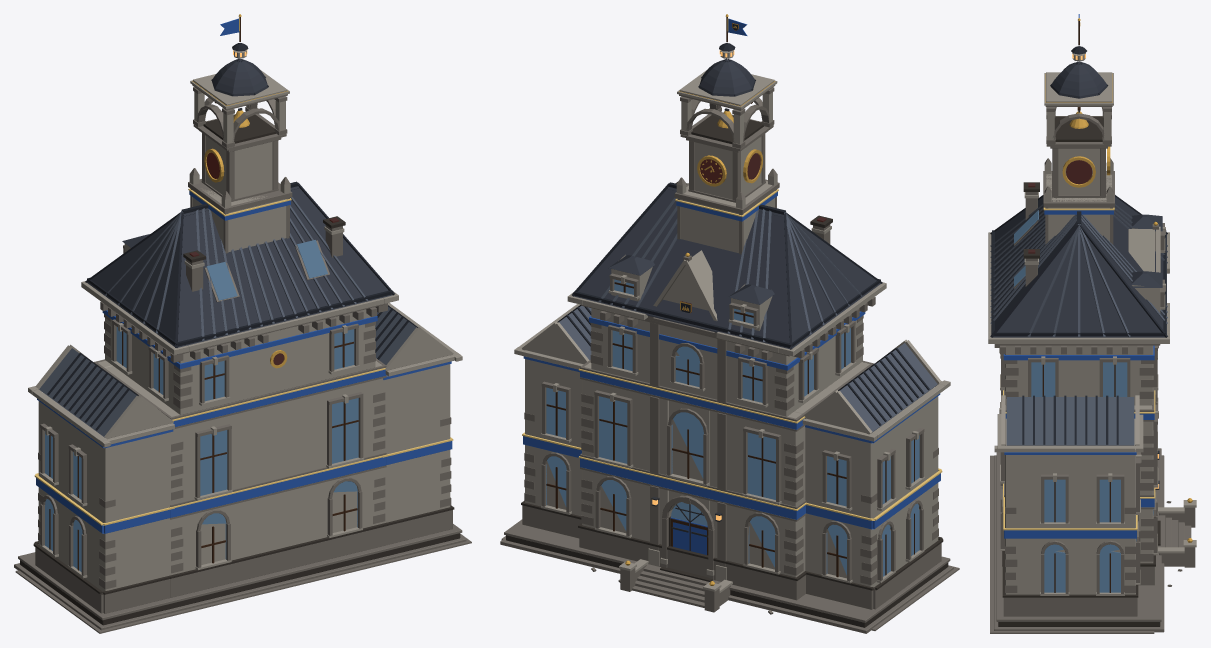
The model's file is 城镇大厅_低模.glb.
The picture shows the model from 3 angles, left to right: view 1: azimuth 30°, elevation 25°; view 2: azimuth 150°, elevation 25°; view 3: azimuth 270°, elevation 25°; orthographic projection. The views are drawn at different scales.
Parts seen in each view (by area): view 1: TH-stone_light, TH-stone_mid, TH-roof, TH-roof_pale, TH-glass, TH-team, TH-stone_dark, TH-roof_edge, TH-team_trim, TH-wood_dark, TH-gold; view 2: TH-stone_light, TH-stone_mid, TH-roof, TH-glass, TH-team, TH-roof_pale, TH-roof_edge, TH-stone_dark, TH-wood_dark, TH-team_trim, TH-gold, TH-coal; view 3: TH-stone_light, TH-stone_mid, TH-roof, TH-roof_pale, TH-glass, TH-roof_edge, TH-team, TH-stone_dark, TH-gold, TH-team_trim, TH-coal, TH-wood_dark.
Boxes of the visible parts, x1=… form: TH-stone_light: x1=28, y1=50, x2=462, y2=591; TH-stone_mid: x1=14, y1=85, x2=471, y2=633; TH-roof: x1=87, y1=59, x2=392, y2=347; TH-roof_pale: x1=39, y1=183, x2=416, y2=437; TH-glass: x1=45, y1=240, x2=358, y2=571; TH-team: x1=36, y1=18, x2=452, y2=533; TH-stone_dark: x1=20, y1=114, x2=460, y2=625; TH-roof_edge: x1=47, y1=43, x2=417, y2=430; TH-team_trim: x1=34, y1=18, x2=453, y2=525; TH-wood_dark: x1=49, y1=17, x2=358, y2=570; TH-gold: x1=192, y1=14, x2=287, y2=368; TH-stone_light: x1=514, y1=50, x2=950, y2=592; TH-stone_mid: x1=500, y1=85, x2=959, y2=633; TH-roof: x1=574, y1=59, x2=880, y2=349; TH-glass: x1=546, y1=279, x2=919, y2=576; TH-team: x1=523, y1=18, x2=940, y2=554; TH-roof_pale: x1=559, y1=183, x2=937, y2=432; TH-roof_edge: x1=557, y1=24, x2=929, y2=425; TH-stone_dark: x1=506, y1=115, x2=948, y2=627; TH-wood_dark: x1=546, y1=17, x2=914, y2=577; TH-team_trim: x1=522, y1=18, x2=942, y2=520; TH-gold: x1=625, y1=14, x2=775, y2=585; TH-coal: x1=680, y1=23, x2=826, y2=312; TH-stone_light: x1=988, y1=53, x2=1196, y2=595; TH-stone_mid: x1=990, y1=105, x2=1195, y2=633; TH-roof: x1=991, y1=62, x2=1166, y2=337; TH-roof_pale: x1=990, y1=204, x2=1167, y2=445; TH-glass: x1=1014, y1=210, x2=1153, y2=592; TH-roof_edge: x1=990, y1=46, x2=1167, y2=444; TH-team: x1=1003, y1=14, x2=1154, y2=538; TH-stone_dark: x1=998, y1=116, x2=1160, y2=626; TH-gold: x1=1045, y1=18, x2=1192, y2=542; TH-team_trim: x1=1003, y1=207, x2=1155, y2=530; TH-coal: x1=1028, y1=160, x2=1092, y2=253; TH-wood_dark: x1=1042, y1=21, x2=1115, y2=592.
Bounding box in the file's own units: 18.1 × 25.18 × 8.99.
